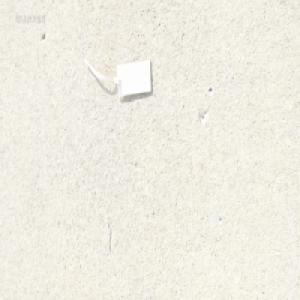LuggageTag: (81, 54, 154, 101)
